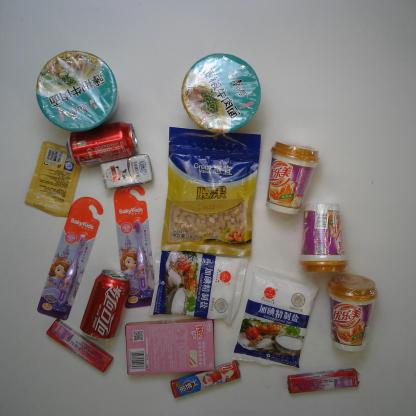Candy: (44, 316, 115, 374), (168, 359, 242, 401), (286, 366, 362, 395)
Dessert: (122, 317, 218, 378)
Dried Fruit: (159, 124, 262, 260)
Drink: (77, 266, 132, 345), (64, 119, 141, 170)
Instant Drink: (264, 138, 322, 217), (325, 273, 380, 354), (296, 201, 350, 275)
Instant Noodles: (33, 48, 122, 136), (178, 51, 263, 136)
Milk: (99, 152, 155, 192)
Personal Hygiene: (35, 193, 105, 323), (110, 179, 160, 310)
Seasoner: (231, 264, 323, 372), (147, 242, 251, 328), (22, 139, 84, 220)
